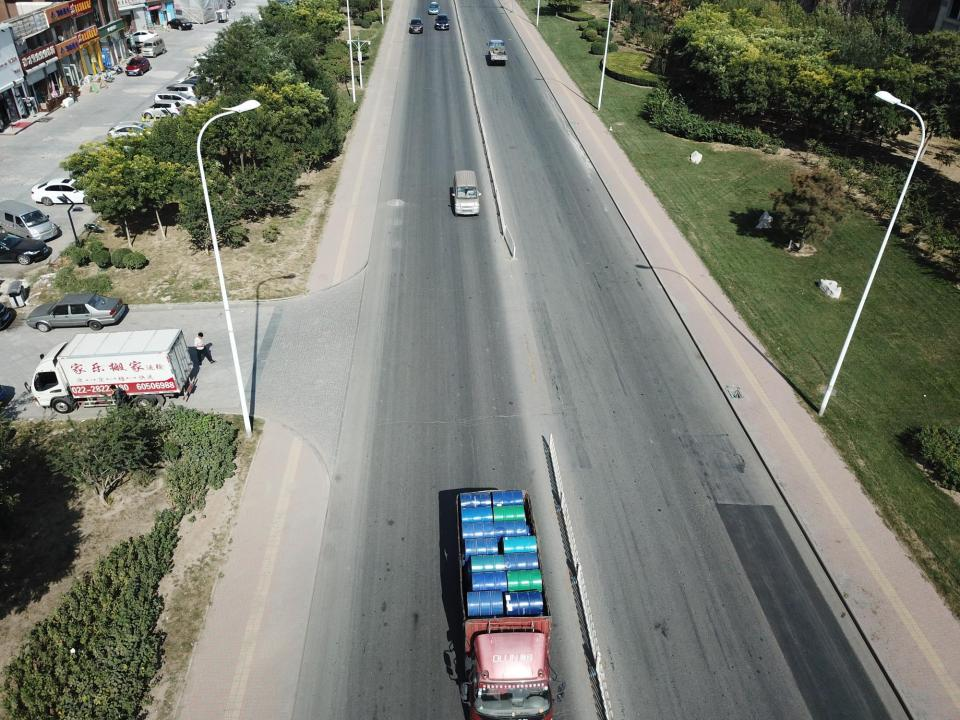car: (25, 293, 126, 333), (31, 177, 104, 207), (0, 236, 48, 266), (106, 121, 166, 144), (142, 99, 183, 121), (166, 77, 206, 92), (124, 29, 159, 46), (125, 55, 152, 76), (167, 17, 193, 31), (408, 16, 424, 34), (435, 13, 450, 31), (427, 1, 441, 15)
truck: (454, 488, 568, 720), (24, 328, 198, 414), (485, 38, 508, 66)
van: (0, 199, 58, 241), (451, 170, 481, 216), (153, 90, 201, 110), (161, 82, 198, 100), (141, 36, 167, 58)
